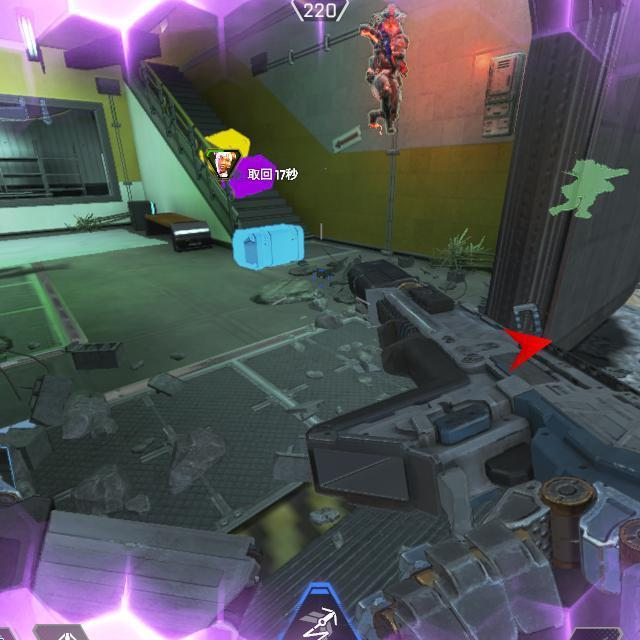avatar: (357, 1, 412, 137)
